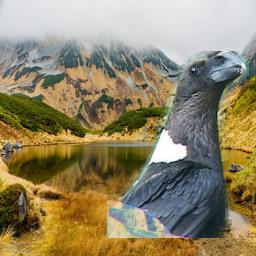Crow: (107, 51, 249, 238)
